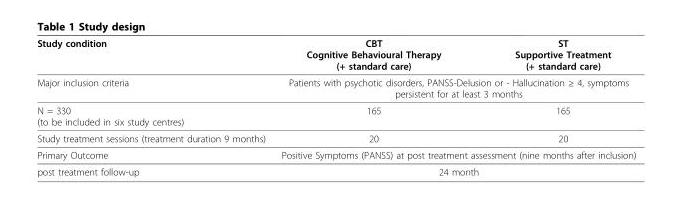table: (36, 37, 635, 176)
table column: (36, 37, 272, 176), (272, 37, 477, 176), (477, 37, 635, 176)
table column header: (36, 37, 635, 73)
table row: (36, 37, 635, 73), (36, 73, 635, 101), (36, 101, 635, 129), (36, 129, 635, 146), (36, 146, 635, 163), (36, 163, 635, 176)
table spanning cell: (272, 73, 635, 101), (272, 146, 635, 163), (272, 163, 635, 176)
